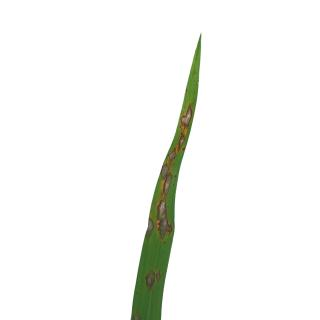Blast: (156, 196, 173, 239), (144, 268, 162, 294), (178, 103, 195, 130), (161, 173, 172, 200), (168, 146, 178, 165), (148, 218, 156, 237), (160, 164, 169, 180), (178, 133, 185, 151)
